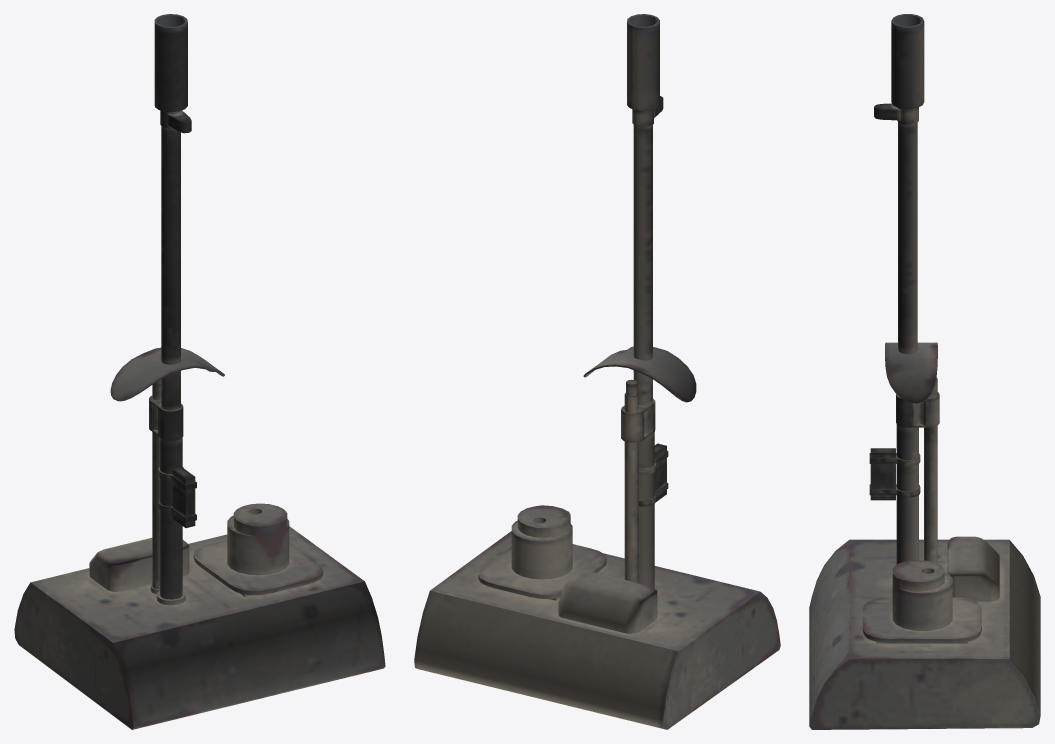
File: Gun_01.glb
3 renders of one model, left to right at view 1: azimuth 30°, elevation 25°; view 2: azimuth 150°, elevation 25°; view 3: azimuth 270°, elevation 25°, orthographic. The views are drawn at different scales.
Parts seen in each view (by area): view 1: set_0_group_0; view 2: set_0_group_0; view 3: set_0_group_0.
Boxes of the visible parts, box(x1,y1,x2,y2) form: set_0_group_0: box(14, 14, 385, 729); set_0_group_0: box(414, 14, 780, 729); set_0_group_0: box(809, 14, 1040, 729).
Bounding box in the file's own units: 0.5631 × 1.39 × 0.4613.
1 material, 1 textured.
